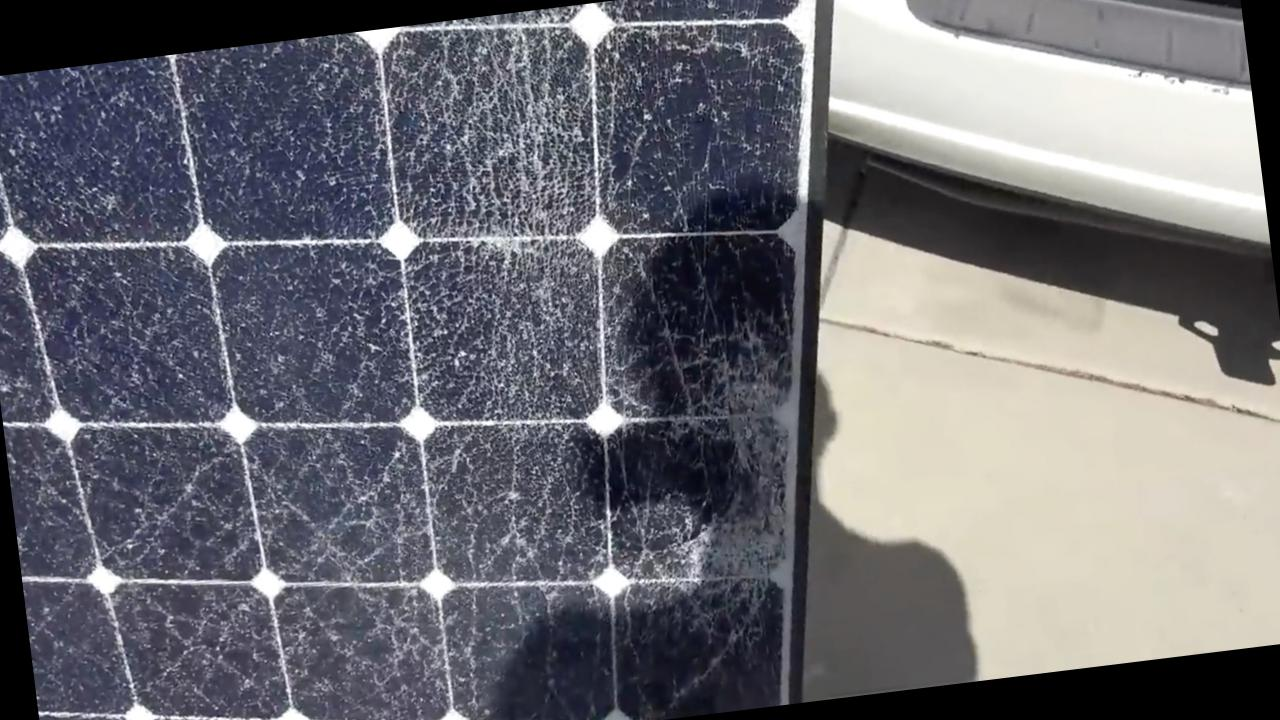Crack: (419, 85, 824, 622), (340, 59, 672, 373), (539, 294, 824, 625)
